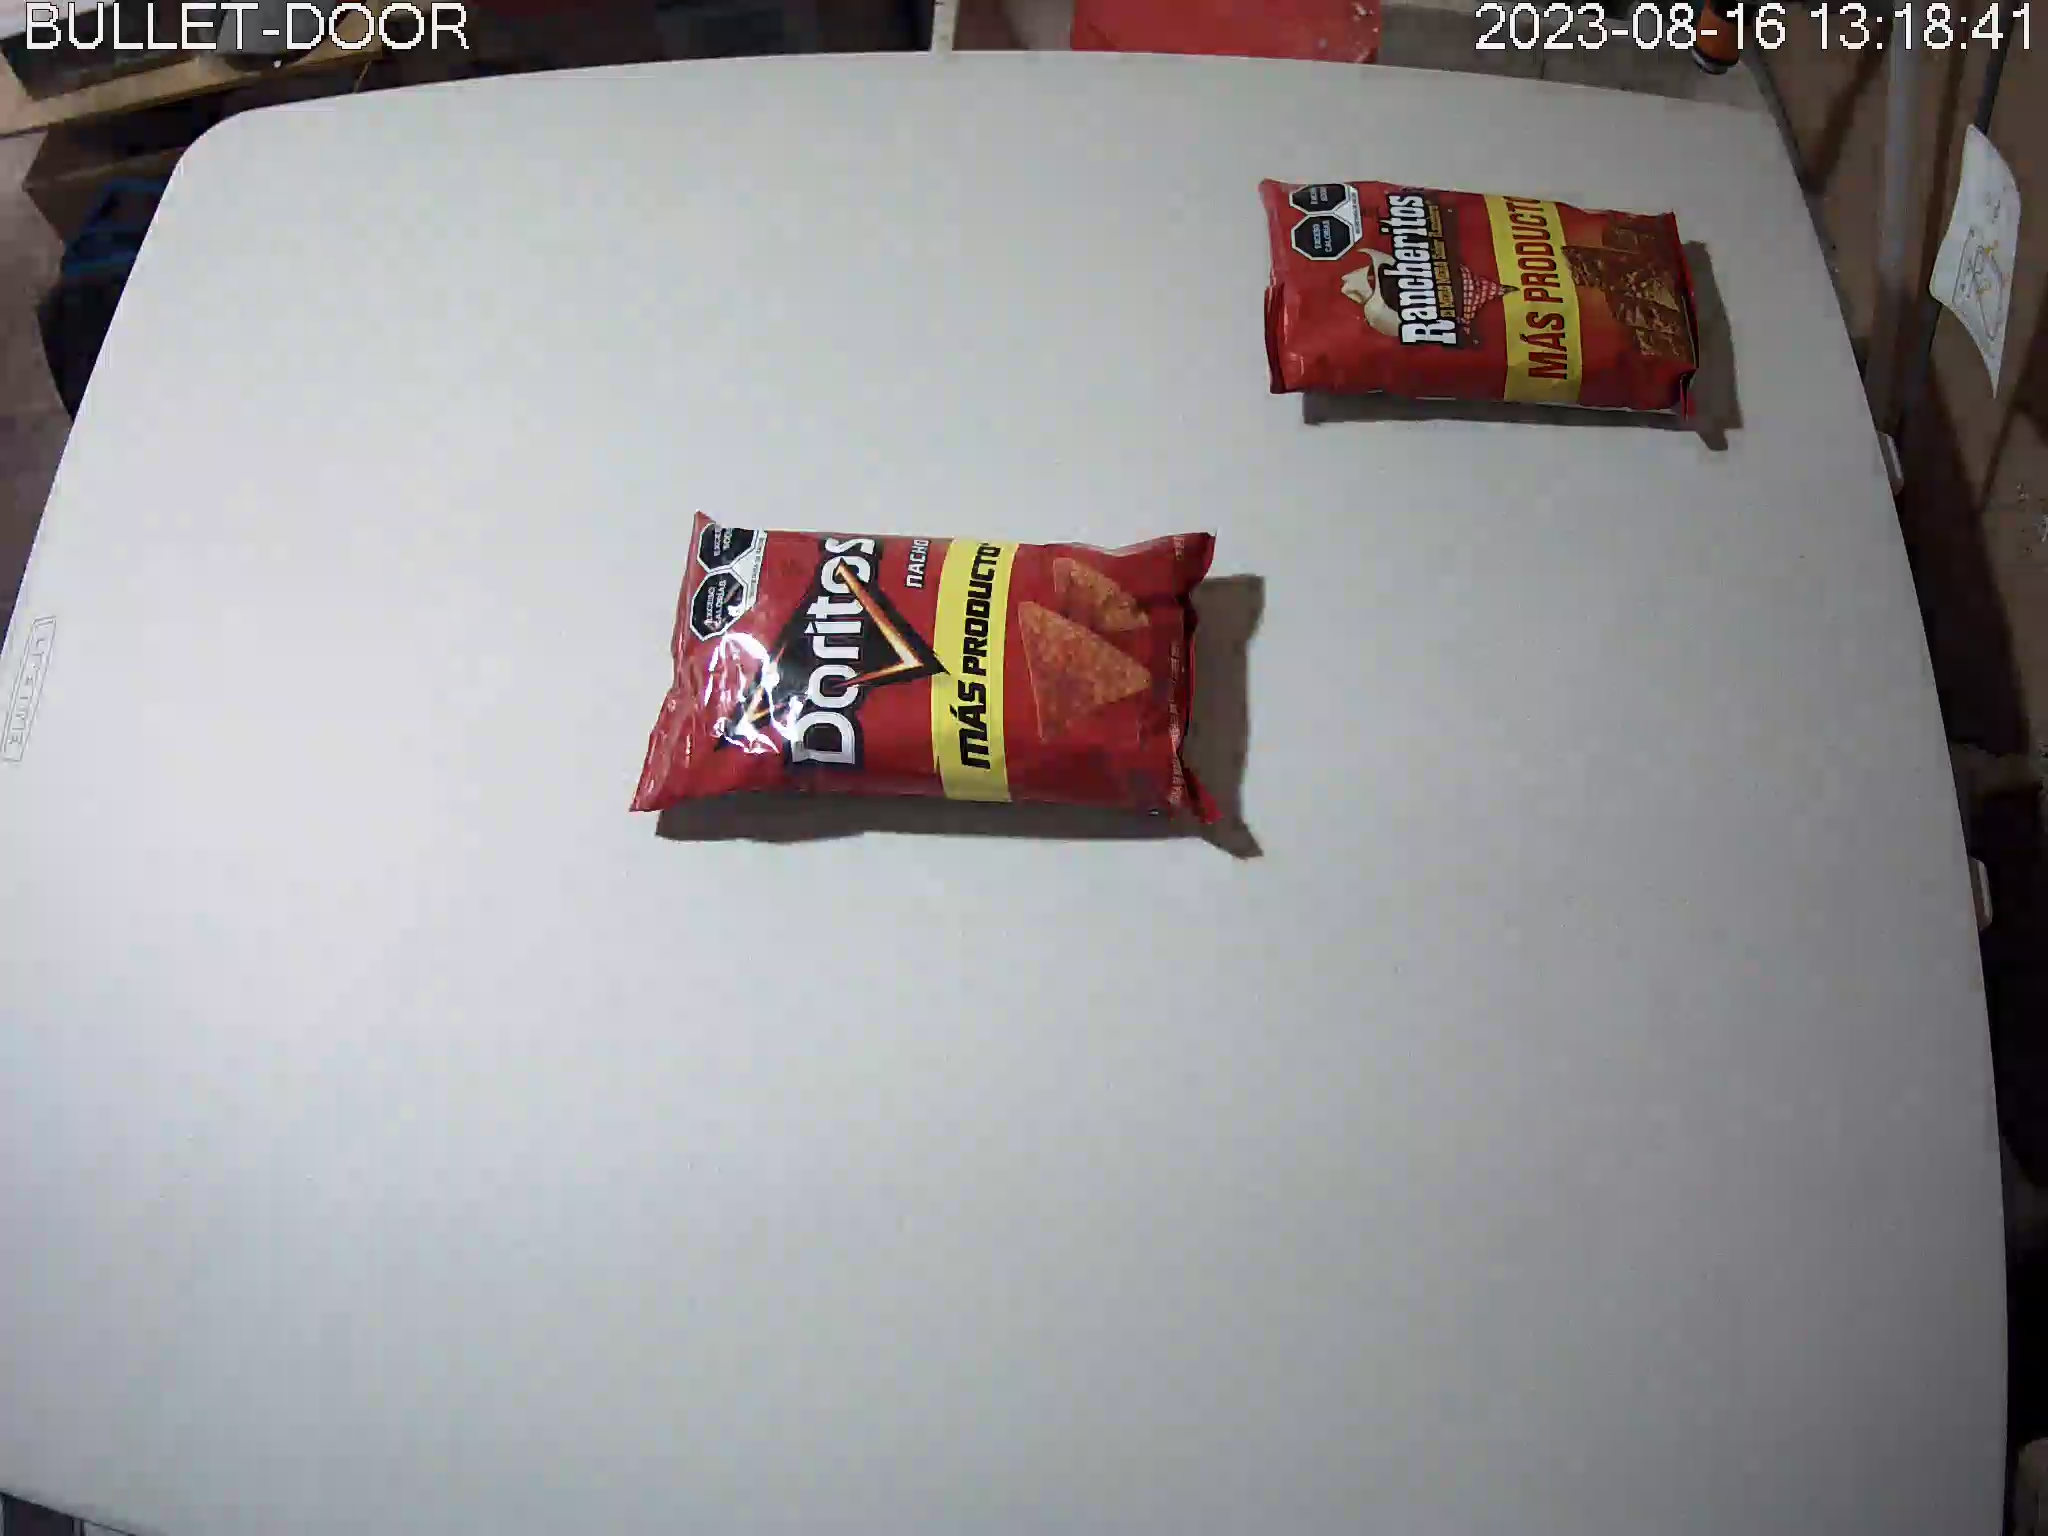DoritosN_61_F: (631, 511, 1226, 837)
Rancheritos_58_F: (1256, 174, 1705, 426)
